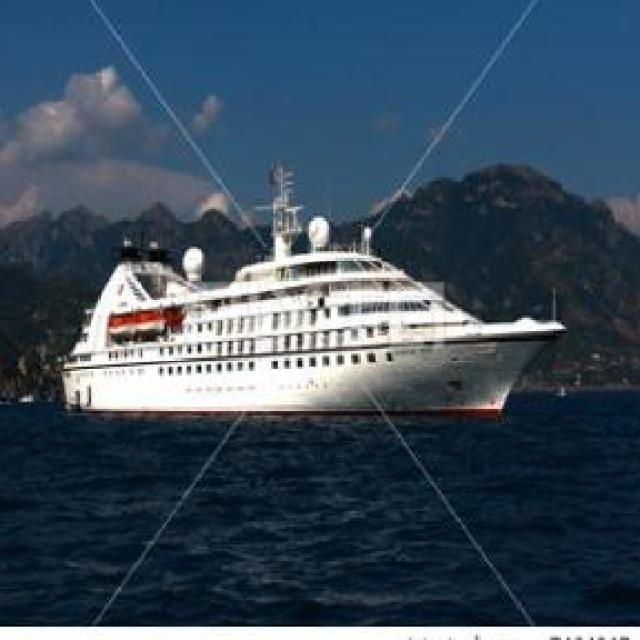passenger ship: (56, 168, 557, 420)
